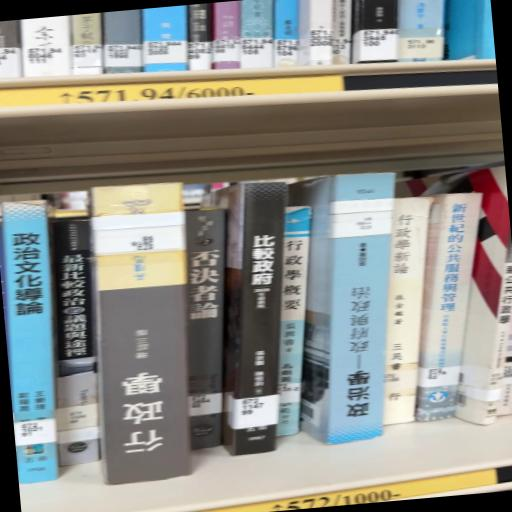reverse: (91, 184, 193, 486), (289, 174, 395, 445)
